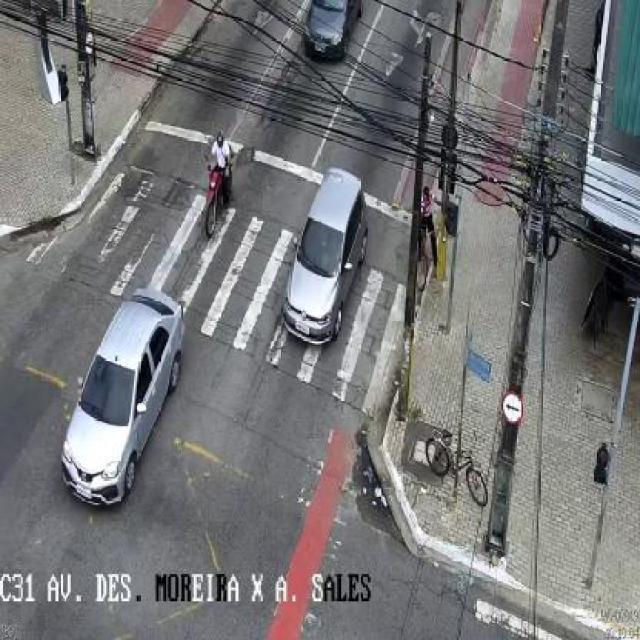Car: (57, 287, 188, 509), (282, 167, 366, 347), (302, 0, 364, 63)
Cycle: (424, 429, 490, 506), (203, 161, 230, 239)
